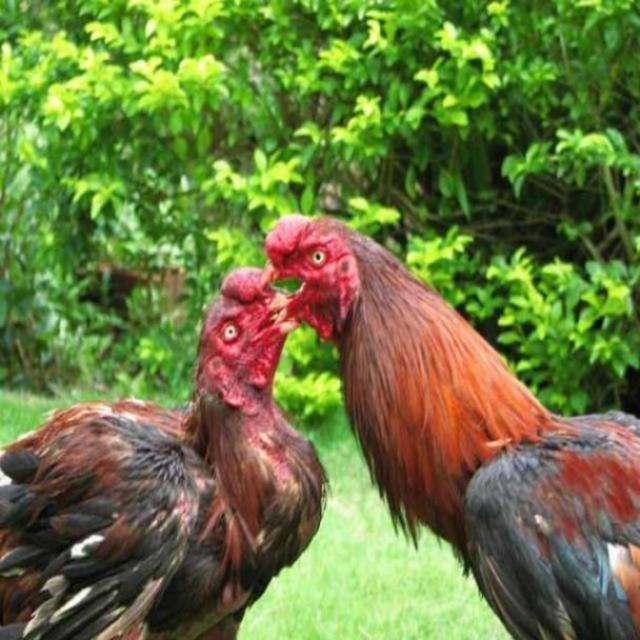Chicken: (241, 201, 628, 628), (0, 265, 338, 639)
